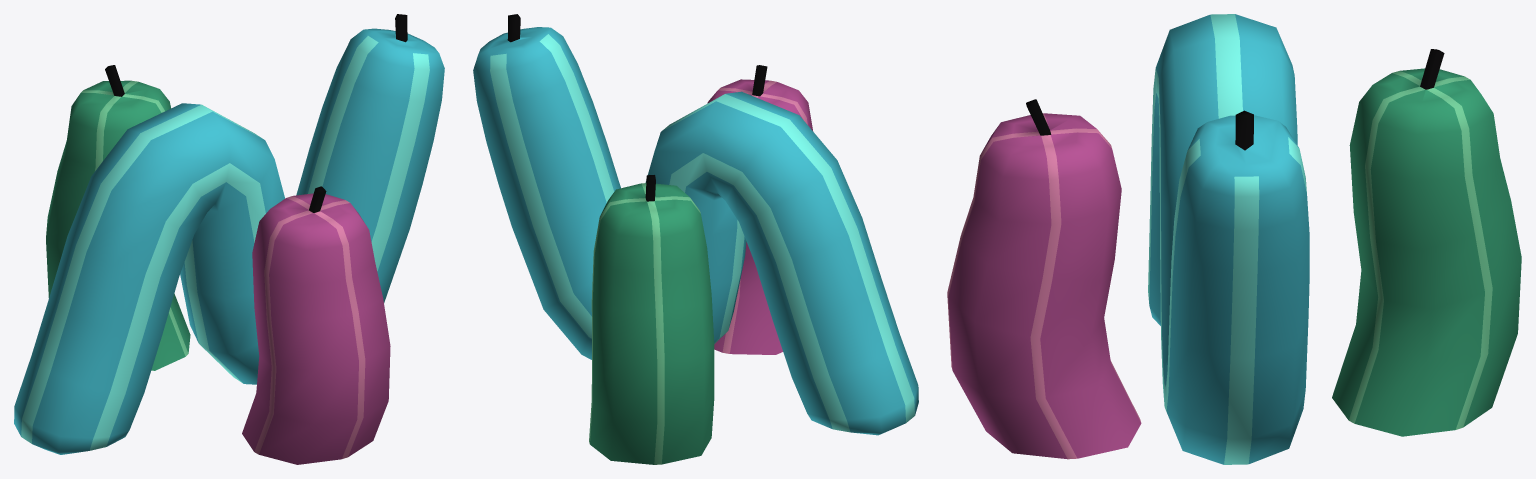
The model's file is TableDecor_01_PastelPop.glb.
The picture shows the model from 3 angles, left to right: view 1: azimuth 30°, elevation 25°; view 2: azimuth 150°, elevation 25°; view 3: azimuth 270°, elevation 25°; orthographic projection. The views are drawn at different scales.
Visible parts, largest first — view 1: TableDecor_01_PastelPop; view 2: TableDecor_01_PastelPop; view 3: TableDecor_01_PastelPop.
Boxes of the visible parts, x1,y1,x2,y2 form: TableDecor_01_PastelPop: (14,14,444,464); TableDecor_01_PastelPop: (473,14,918,464); TableDecor_01_PastelPop: (947,14,1521,464).
Bounding box in the file's own units: 0.1662 × 0.1247 × 0.1561.
Materials: 1 (1 with a texture image).
